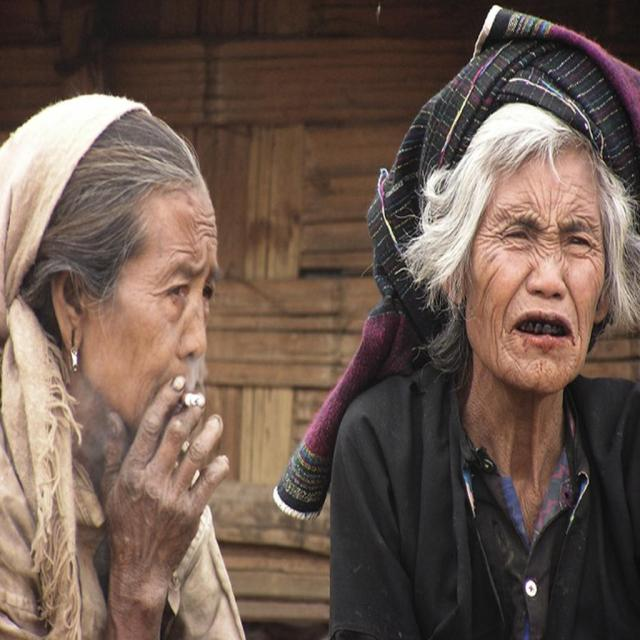smoking: (38, 76, 219, 491)
